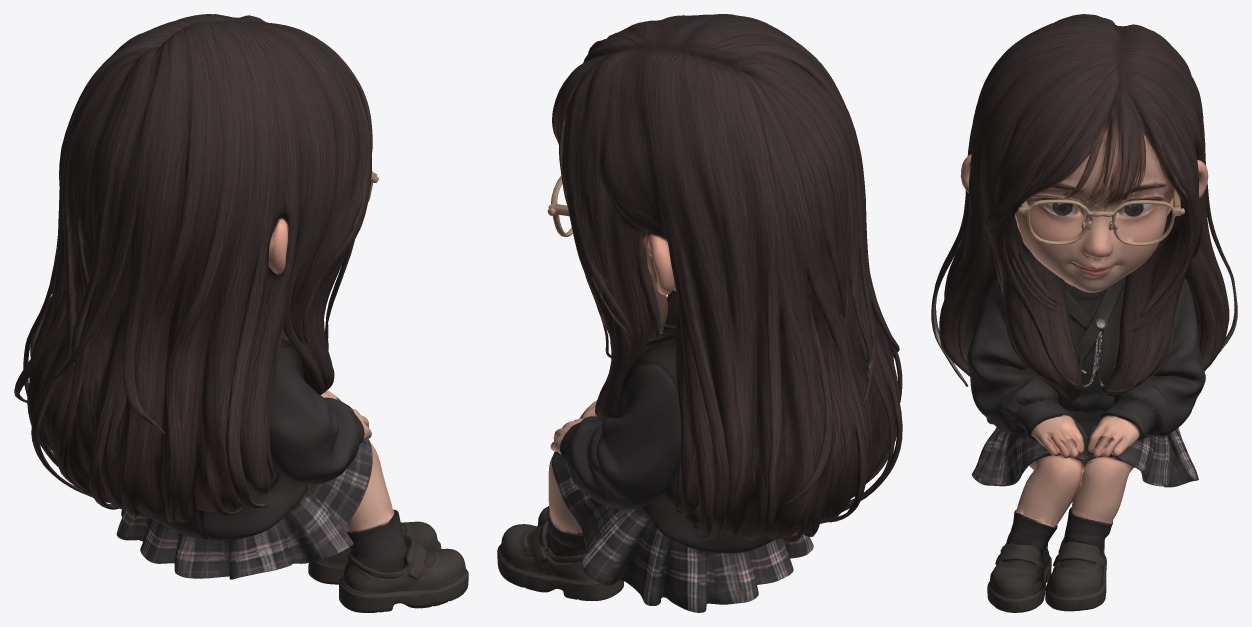
File: 孙浩楠.glb
3 views of the same model, side by side, from view 1: azimuth 30°, elevation 25°; view 2: azimuth 150°, elevation 25°; view 3: azimuth 270°, elevation 25° (orthographic). The views are drawn at different scales.
Visible parts, largest first — view 1: tripo_node_247e2c81-9293-4d0c-8a88-510c284ad077; view 2: tripo_node_247e2c81-9293-4d0c-8a88-510c284ad077; view 3: tripo_node_247e2c81-9293-4d0c-8a88-510c284ad077.
Part boxes in pixels (box(x1,y1,x2,y2)): tripo_node_247e2c81-9293-4d0c-8a88-510c284ad077: box(14, 14, 468, 612); tripo_node_247e2c81-9293-4d0c-8a88-510c284ad077: box(497, 14, 902, 612); tripo_node_247e2c81-9293-4d0c-8a88-510c284ad077: box(931, 14, 1237, 612).
Size of the model in its own units: 0.6682 by 0.9796 by 0.5425.
Materials: 1 (1 with a texture image).
